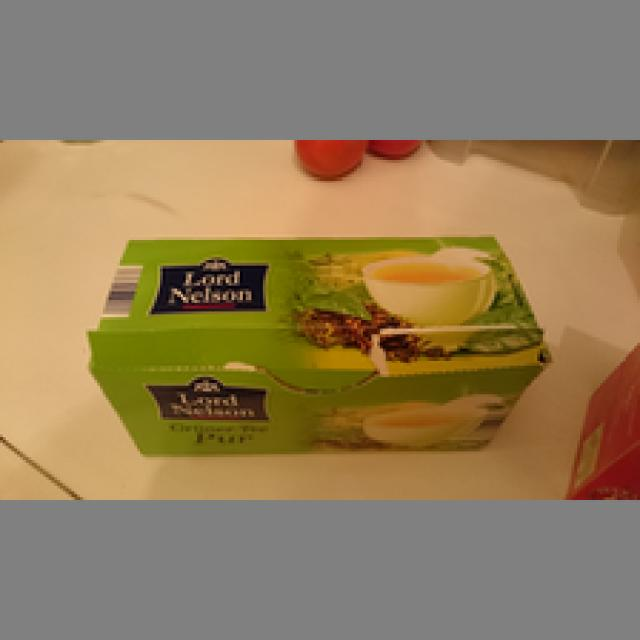groceries: (83, 229, 554, 457)
